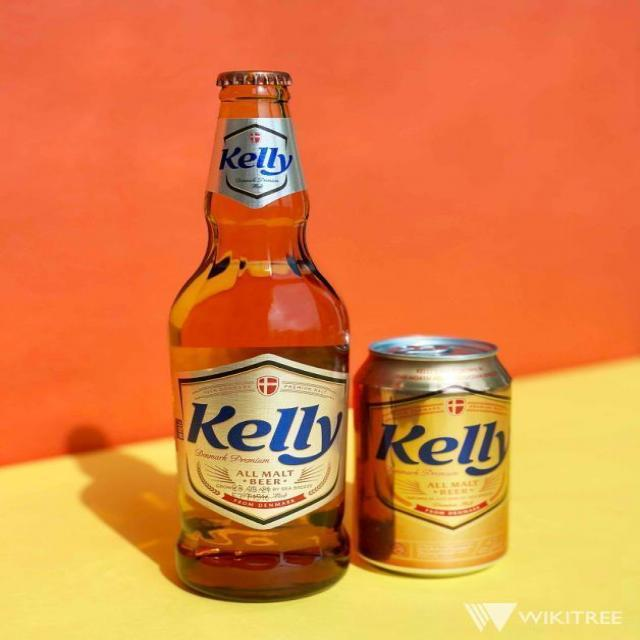beer-bottle: (168, 45, 356, 617)
beer-can: (354, 330, 528, 580)
